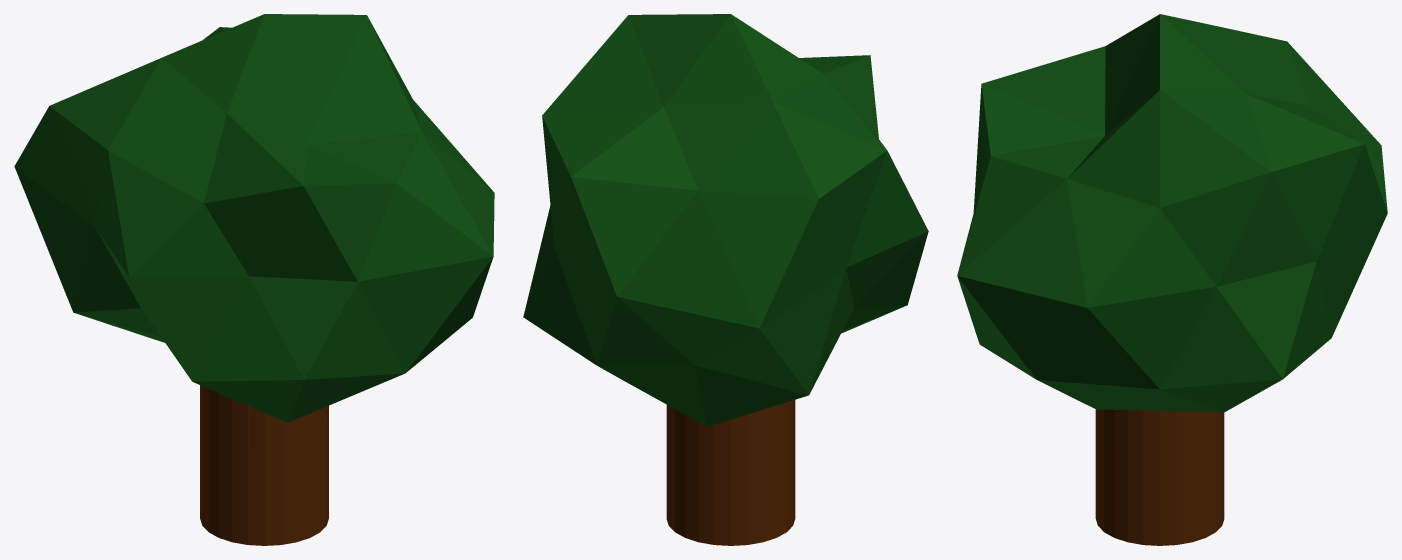
Rendered from deciduous_tree.glb.
3 views of the same model, side by side, from view 1: azimuth 30°, elevation 25°; view 2: azimuth 150°, elevation 25°; view 3: azimuth 270°, elevation 25° (orthographic).
Parts seen in each view (by area): view 1: deciduous_tree; view 2: deciduous_tree; view 3: deciduous_tree.
Boxes of the visible parts, x1=… form: deciduous_tree: x1=14, y1=14, x2=494, y2=545; deciduous_tree: x1=523, y1=14, x2=928, y2=545; deciduous_tree: x1=957, y1=14, x2=1387, y2=545.
Size of what is drawn, in the model's own units: 6.46 by 8.65 by 6.69.
1 material, 1 textured.
